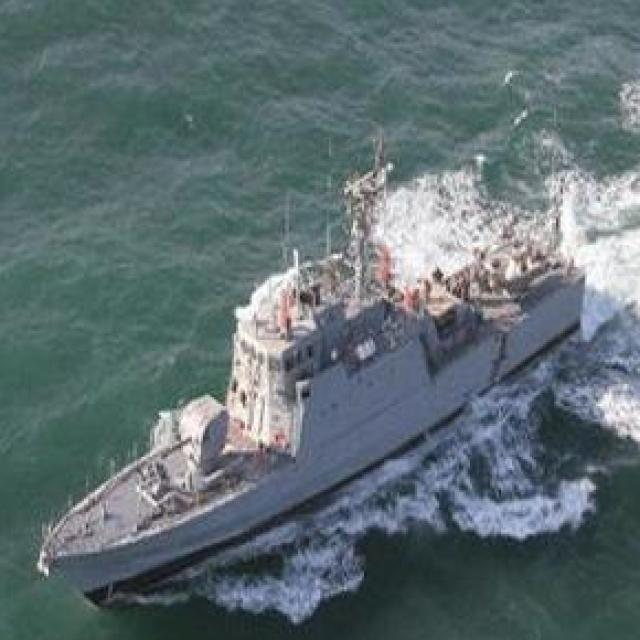navalvessels: (38, 137, 593, 607)
